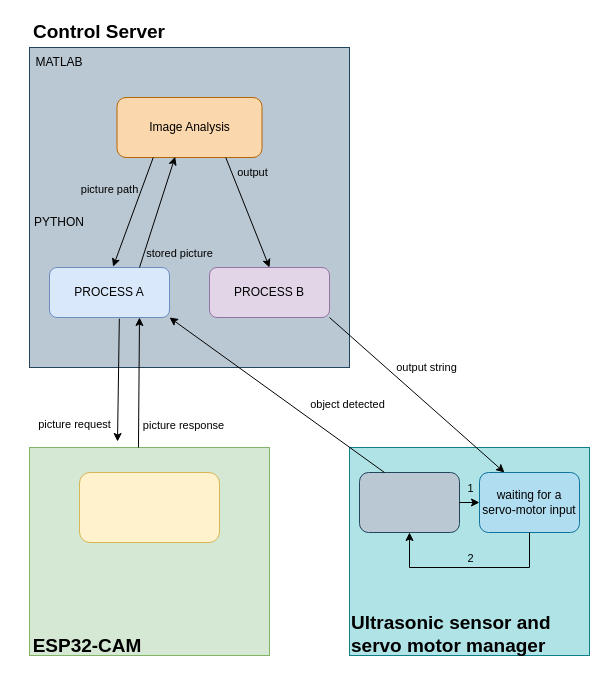
Some shapes in this 607 by 678 pixel diagram are drawn without their labels. Each missing label, with the centre of its shape:
"check for an object" goes at (x=409, y=502).
"HTTP Server" goes at (x=149, y=507).
